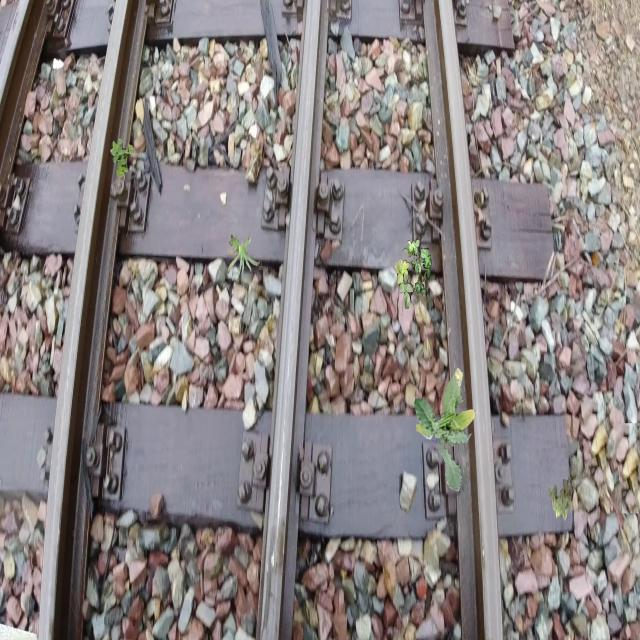Plant: (414, 367, 476, 492), (395, 236, 432, 310), (228, 234, 260, 280), (548, 479, 574, 522), (110, 138, 134, 179)
